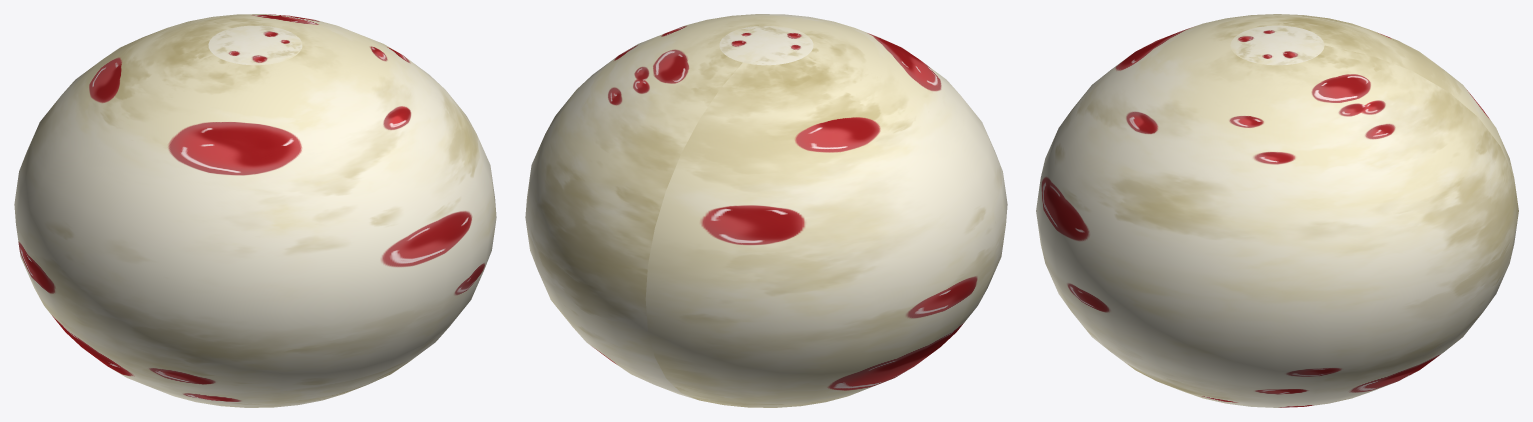
File: mushround.fbx
3 views of the same model, side by side, from view 1: azimuth 30°, elevation 25°; view 2: azimuth 150°, elevation 25°; view 3: azimuth 270°, elevation 25° (orthographic).
Visible parts, largest first — view 1: Sphere; view 2: Sphere; view 3: Sphere.
Part boxes in pixels (x1=…): Sphere: x1=14, y1=14, x2=496, y2=407; Sphere: x1=525, y1=14, x2=1007, y2=407; Sphere: x1=1036, y1=14, x2=1518, y2=407.
Bounding box in the file's own units: 200 × 154 × 200.
Materials: 1 (1 with a texture image).
